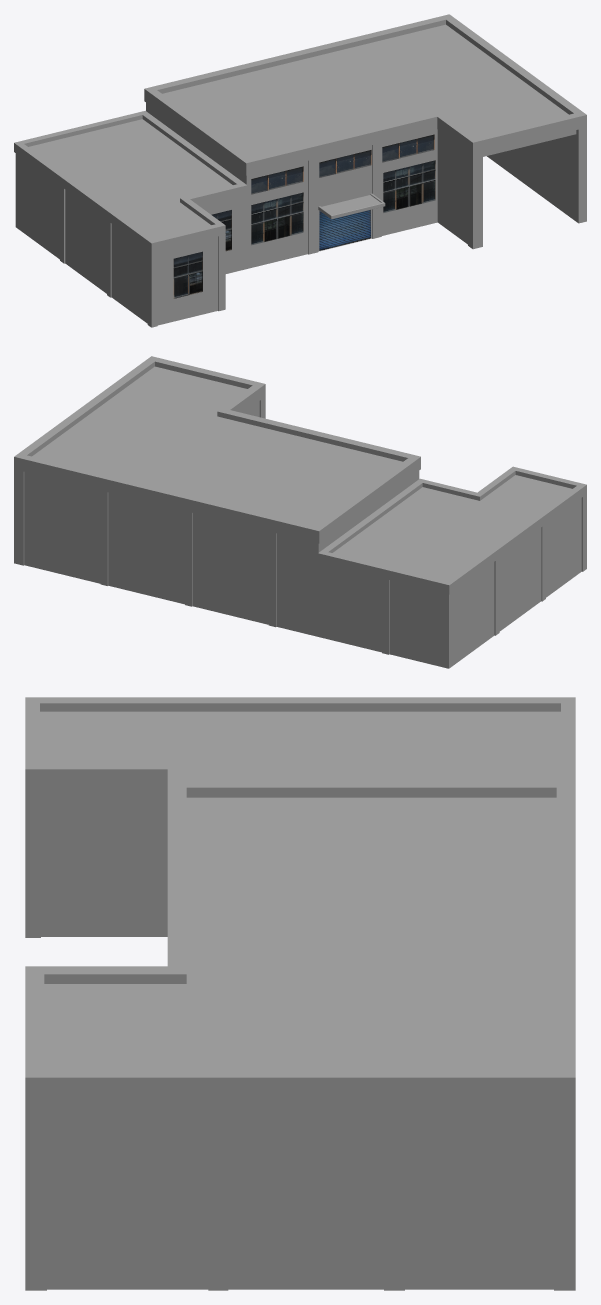
The model's file is WuNiNongSuoTuoShuiJiFang.fbx.
3 renders of one model, top to bottom at view 1: azimuth 30°, elevation 25°; view 2: azimuth 150°, elevation 25°; view 3: azimuth 270°, elevation 25°, orthographic. The views are drawn at different scales.
Visible parts, largest first — view 1: WNNSTSJF, pPlane2, pPlane3, Men, pPlane7, pPlane4, pPlane6, pPlane5; view 2: WNNSTSJF; view 3: WNNSTSJF.
Boxes of the visible parts, bbox=[...] form: WNNSTSJF: bbox=[14, 14, 586, 327]; pPlane2: bbox=[251, 192, 303, 245]; pPlane3: bbox=[383, 160, 435, 212]; Men: bbox=[319, 210, 370, 251]; pPlane7: bbox=[173, 251, 202, 298]; pPlane4: bbox=[251, 166, 303, 194]; pPlane6: bbox=[319, 150, 371, 177]; pPlane5: bbox=[382, 134, 434, 162]; WNNSTSJF: bbox=[14, 356, 586, 668]; WNNSTSJF: bbox=[25, 697, 575, 1290].
Size of the model in its own units: 2356 by 551 by 1289.
8 materials, 2 textured.
